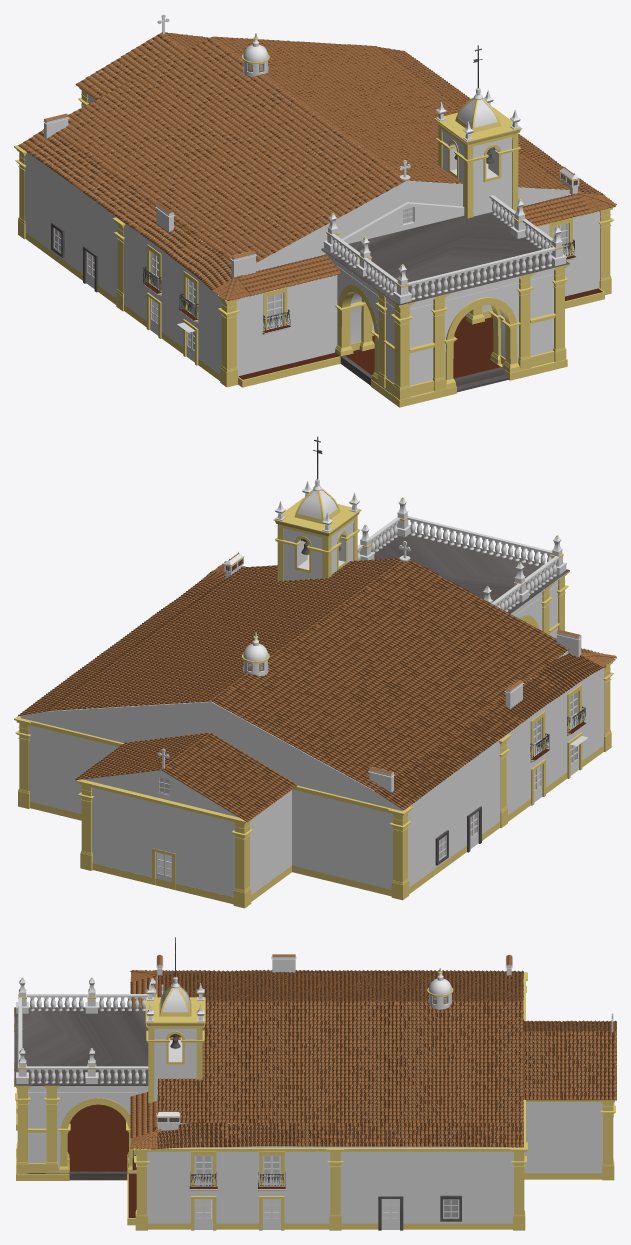
The model's file is church.glb.
3 views of the same model, one above another, from view 1: azimuth 30°, elevation 25°; view 2: azimuth 150°, elevation 25°; view 3: azimuth 270°, elevation 25° (orthographic). The views are drawn at different scales.
Visible parts, largest first — view 1: BagaPie_Tiles.004, 立方体.058, 01, 立方体.104, 立方体.061, file.005; view 2: BagaPie_Tiles.004, 立方体.058, 01, 立方体.104; view 3: BagaPie_Tiles.004, 立方体.058, 01, 立方体.104, 立方体.061, file.005.
Part boxes in pixels (<box>): BagaPie_Tiles.004: <box>18,32,616,300</box>; 立方体.058: <box>24,14,600,385</box>; 01: <box>14,33,615,407</box>; 立方体.104: <box>51,212,569,395</box>; 立方体.061: <box>142,255,602,379</box>; file.005: <box>143,239,575,332</box>; BagaPie_Tiles.004: <box>18,558,616,821</box>; 立方体.058: <box>20,479,604,897</box>; 01: <box>14,488,615,908</box>; 立方体.104: <box>374,532,569,865</box>; BagaPie_Tiles.004: <box>130,954,616,1149</box>; 立方体.058: <box>16,956,613,1229</box>; 01: <box>14,968,616,1230</box>; 立方体.104: <box>14,1007,461,1230</box>; 立方体.061: <box>67,1104,285,1217</box>; file.005: <box>133,1150,285,1188</box>.
Size of the model in its own units: 23.07 by 14.44 by 32.6.
Materials: 14 (1 with a texture image).
